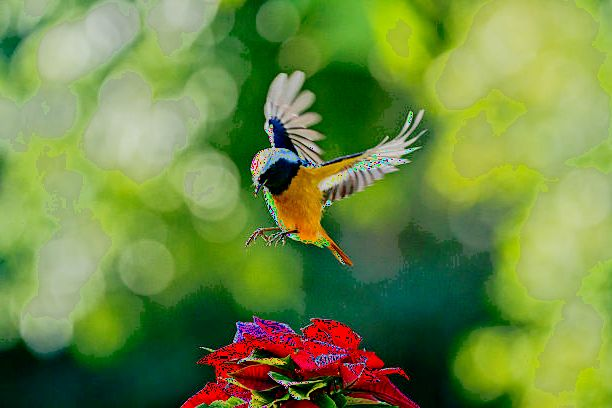Bird: (237, 66, 427, 275)
